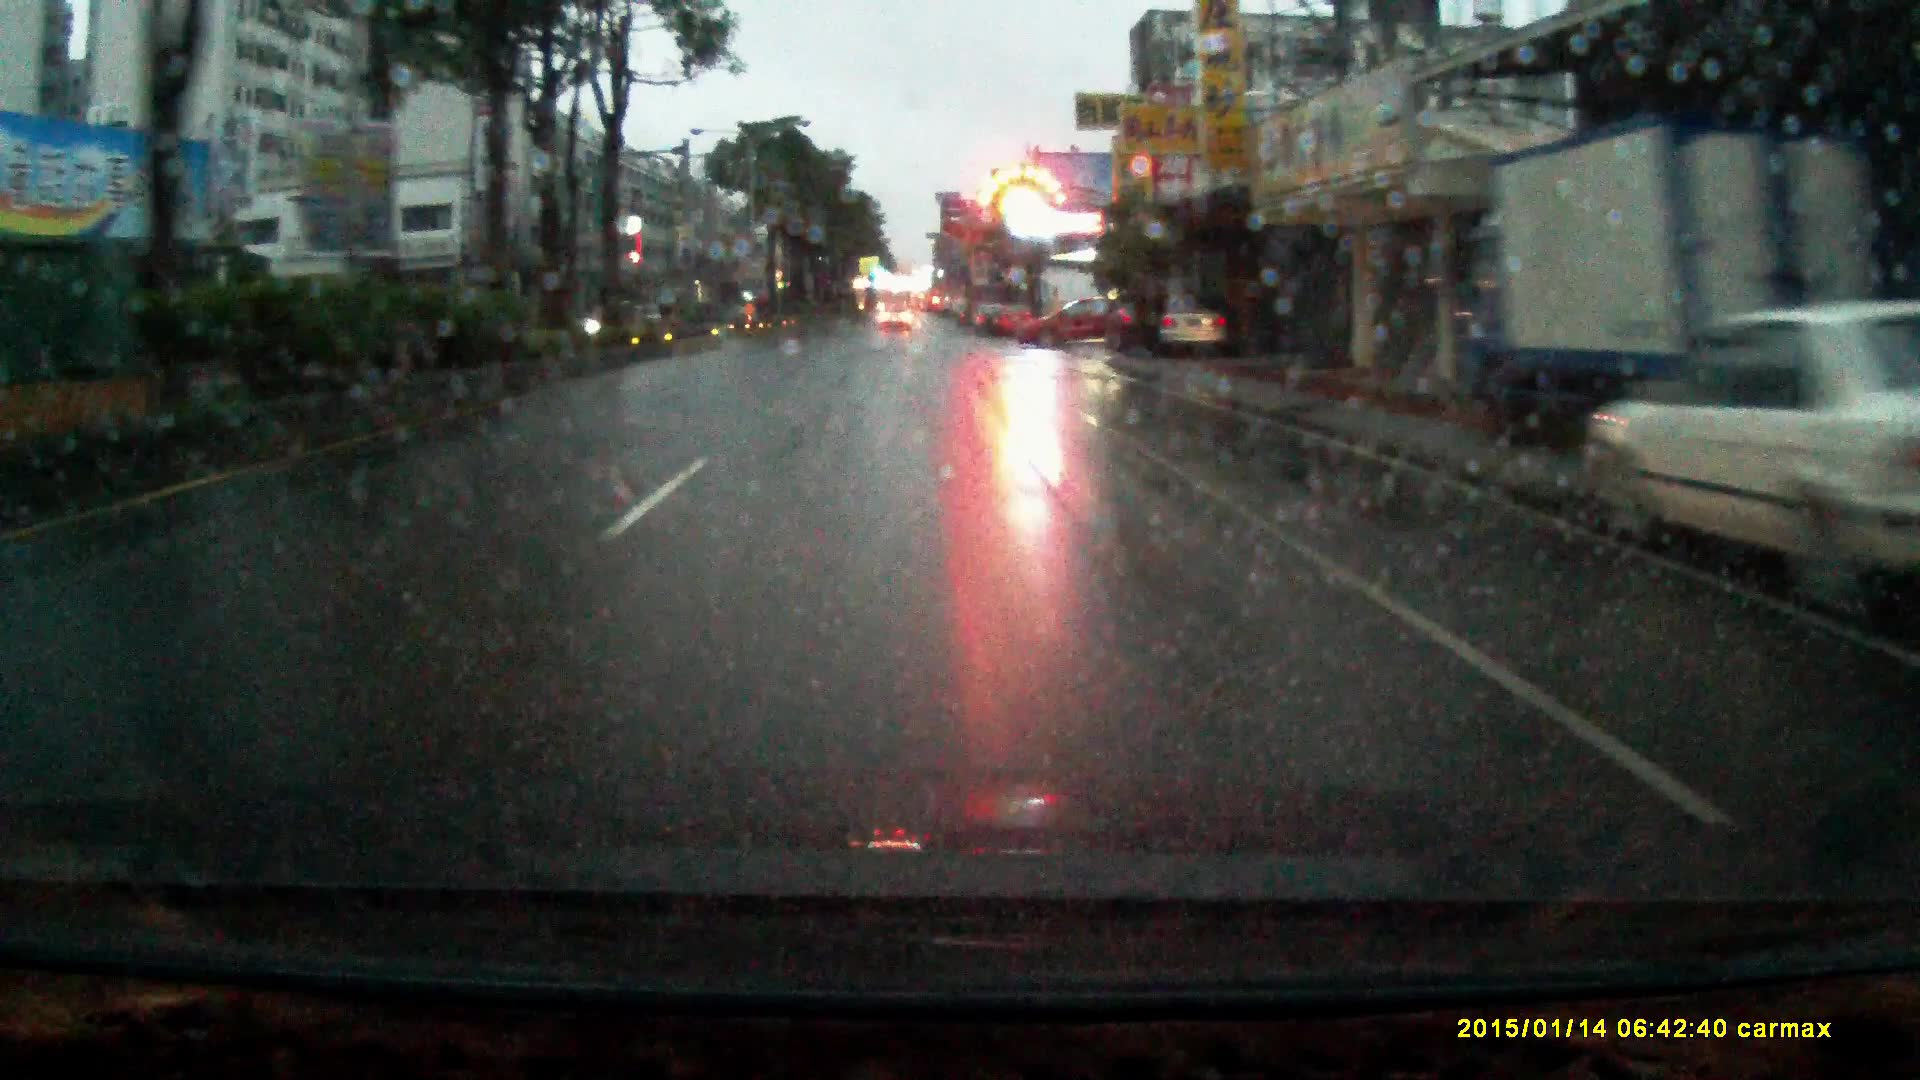vehicle: (1443, 103, 1828, 438), (1582, 301, 1920, 640), (1015, 293, 1135, 347), (1149, 291, 1232, 353), (1102, 294, 1172, 352), (996, 298, 1038, 334), (881, 306, 911, 334)
